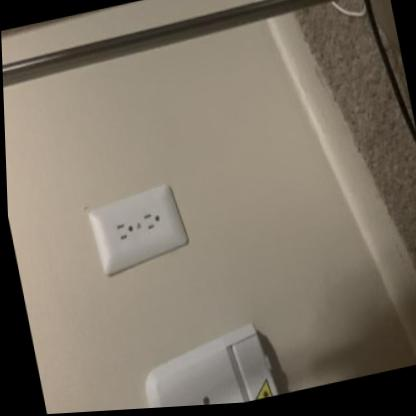OUTLET: (84, 182, 191, 271)
